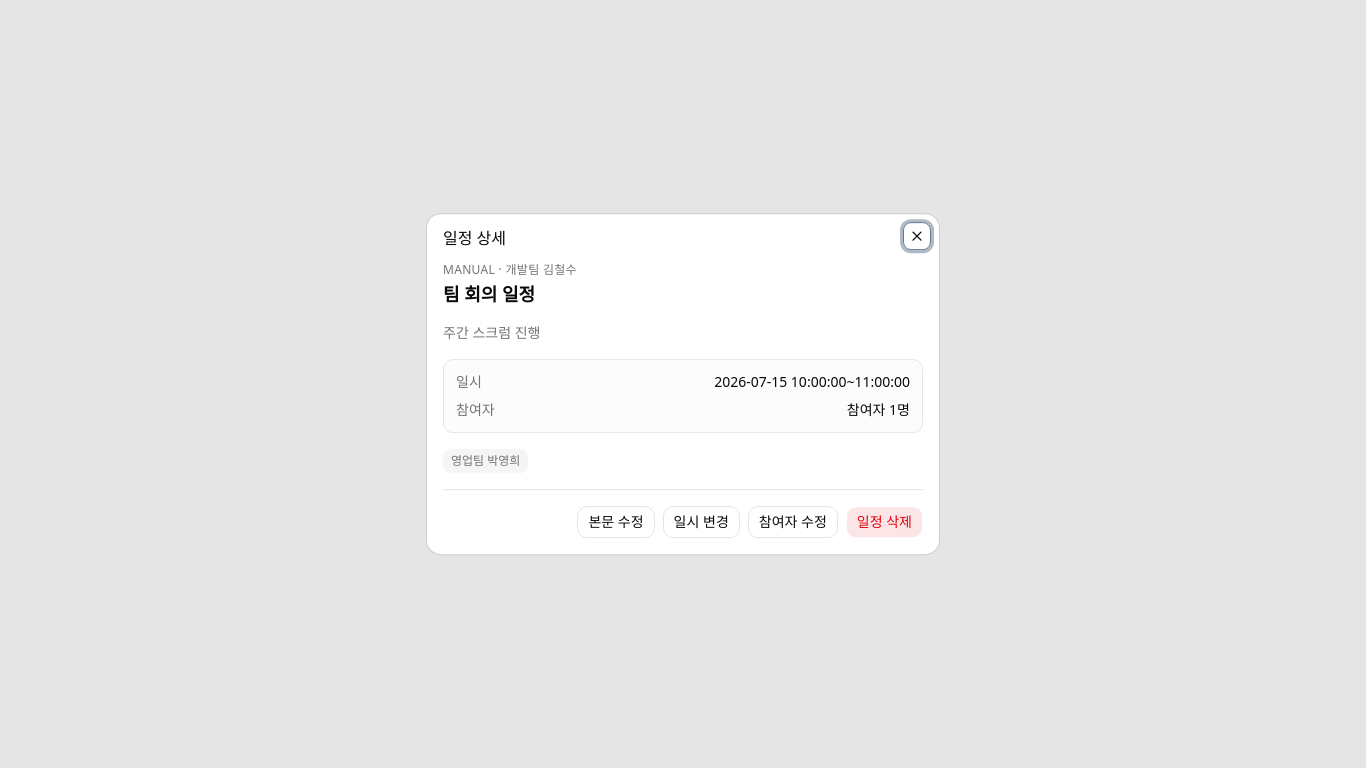
Test: ScheduleDetailDialog - 수정 뷰 전환/프리필 › 뒤로를 클릭하면 수정 뷰가 닫히고 변경사항이 저장되지 않는다
Click the button "본문 수정".
click(616, 522)  # box [577, 506, 655, 538]
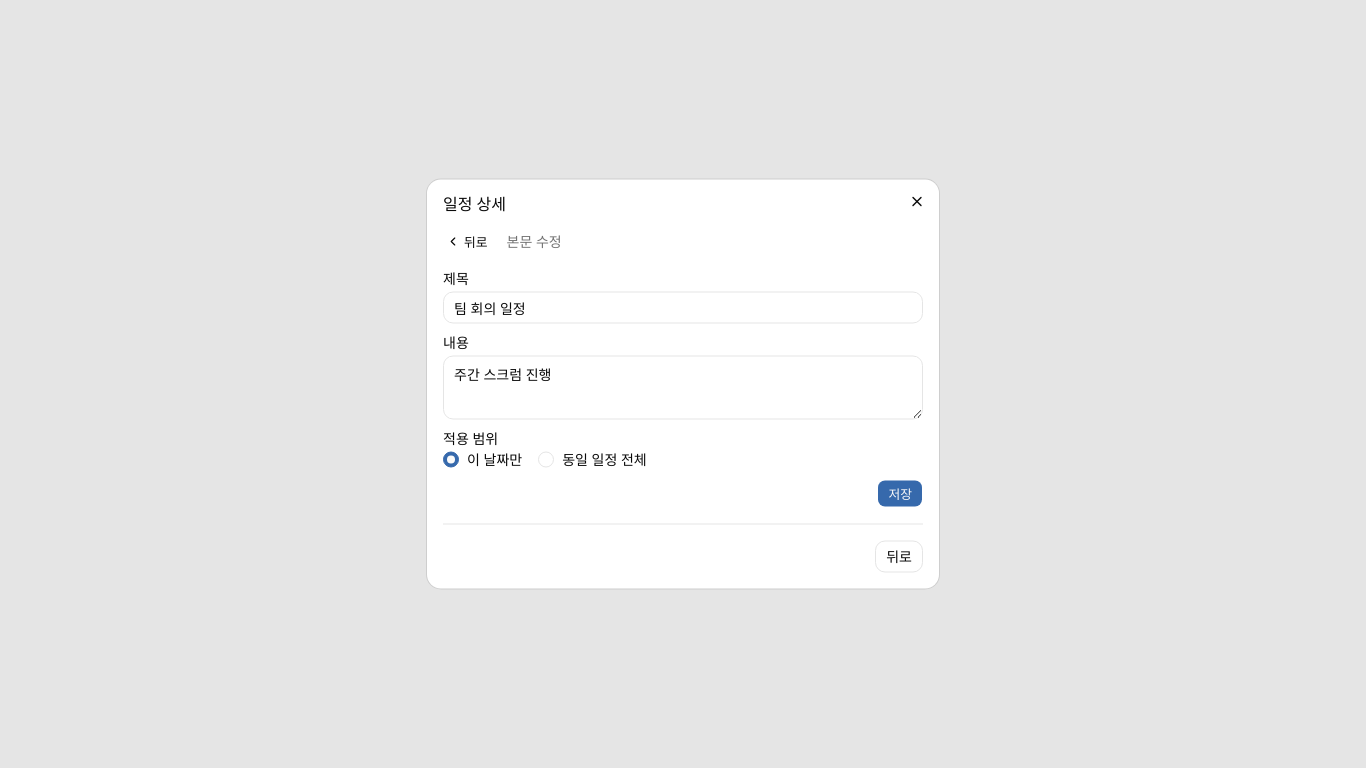
Replace the text in the field labelled "제목" with "변경해볼 제목" at (683, 308), box [443, 292, 923, 324]
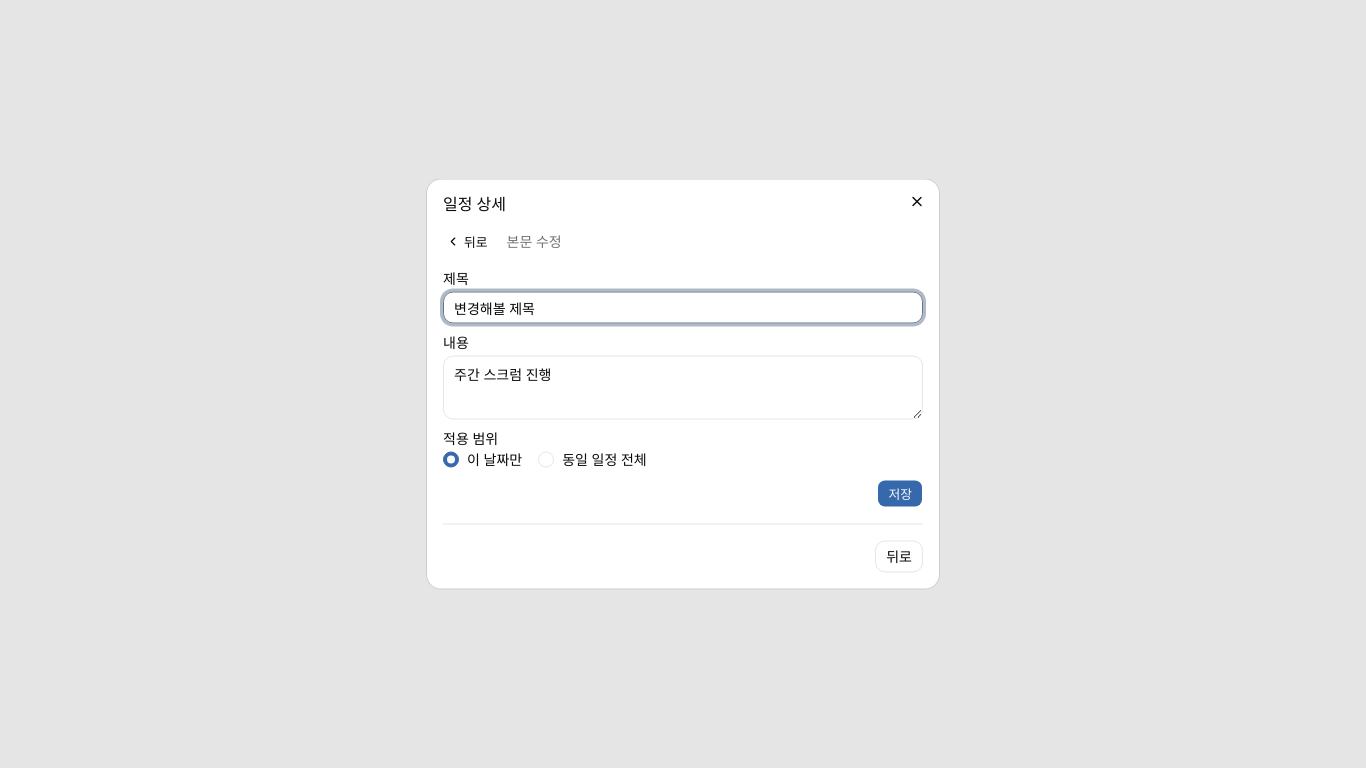
Click the button "뒤로" next to "본문 수정".
click(467, 242)  # box [435, 228, 498, 256]
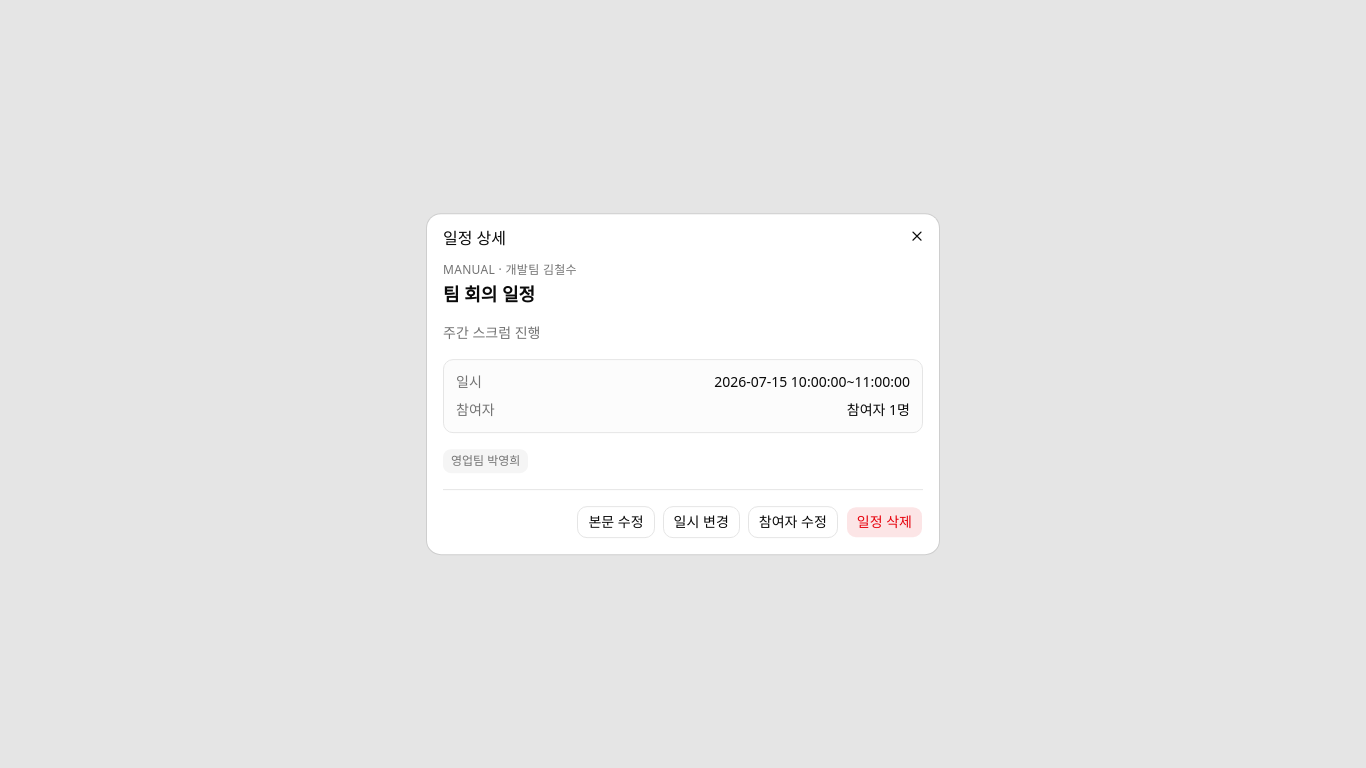
Check: the button "본문 수정" is shown, box [577, 506, 655, 538]
Check: the heading "팀 회의 일정" is shown, box [443, 282, 535, 306]
Check: the label labelled "제목" is gone
